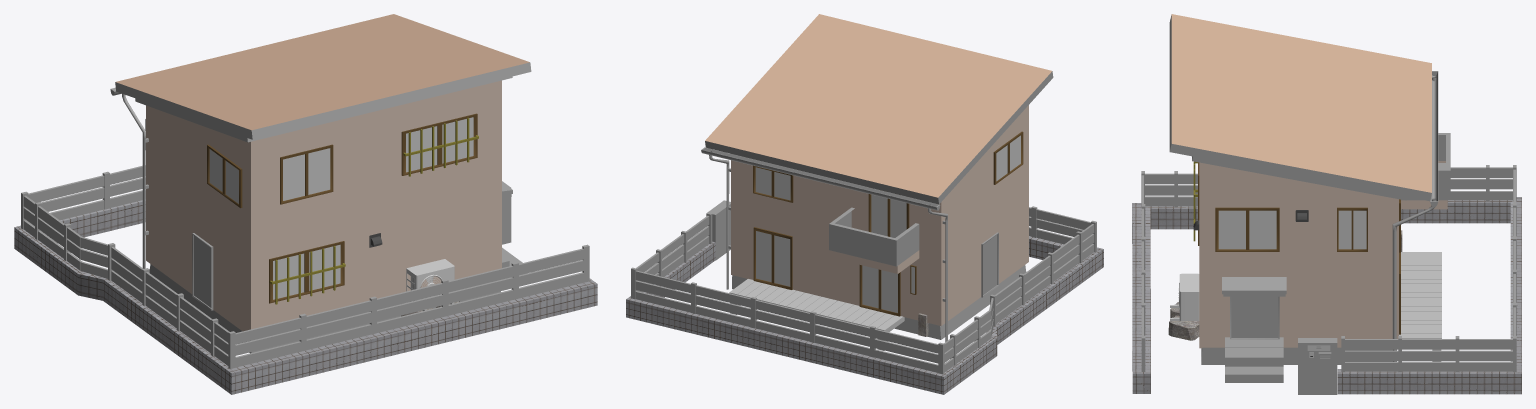
File: house002_mid_color1.fbx
3 renders of one model, left to right at view 1: azimuth 30°, elevation 25°; view 2: azimuth 150°, elevation 25°; view 3: azimuth 270°, elevation 25°, orthographic. The views are drawn at different scales.
Visible parts, largest first — view 1: house002_mid; view 2: house002_mid; view 3: house002_mid.
Boxes of the visible parts, x1=… form: house002_mid: x1=14, y1=14, x2=597, y2=394; house002_mid: x1=626, y1=14, x2=1103, y2=394; house002_mid: x1=1132, y1=14, x2=1521, y2=394.
Bounding box in the file's own units: 18.64 × 11.43 × 17.22.
